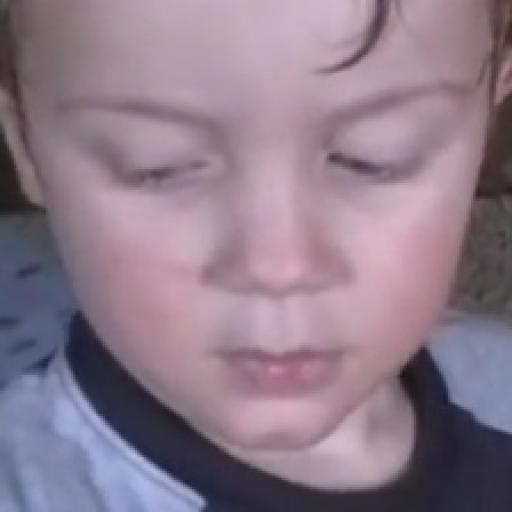Autism: (29, 22, 512, 455)
